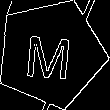M_N: (25, 26, 76, 81)
